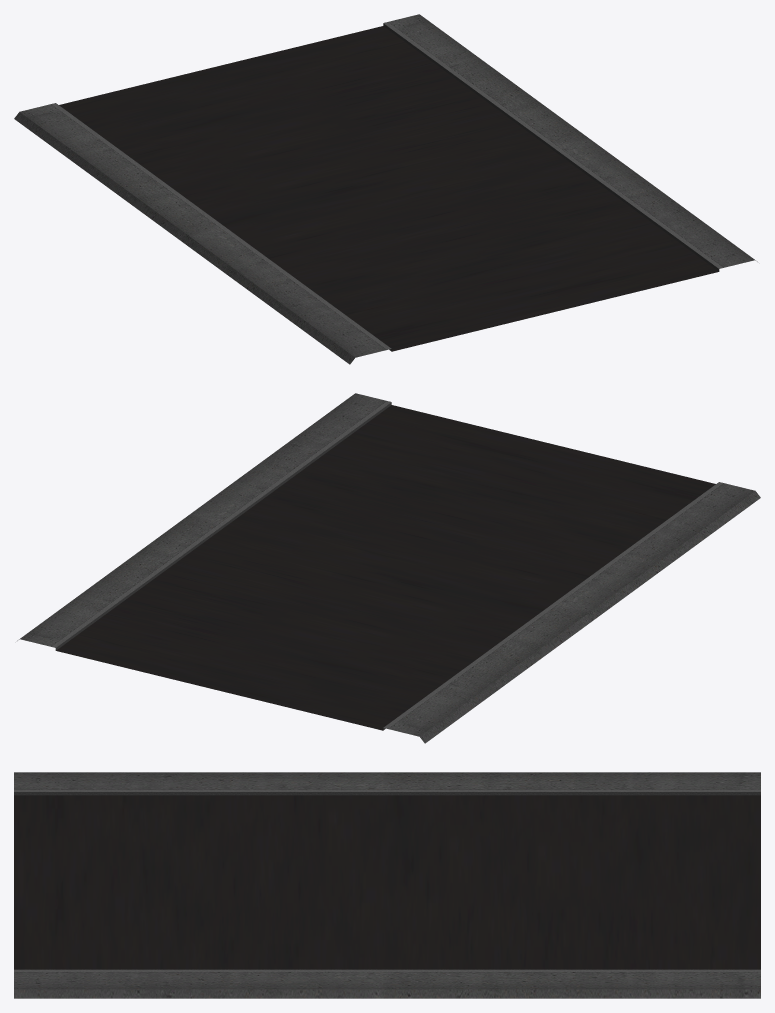
Rendered from RJs_Road Pass 2+4+2 Basic Node.fbx.
3 renders of one model, top to bottom at view 1: azimuth 30°, elevation 25°; view 2: azimuth 150°, elevation 25°; view 3: azimuth 270°, elevation 25°, orthographic. The views are drawn at different scales.
Visible parts, largest first — view 1: plane; view 2: plane; view 3: plane.
Boxes of the visible parts, bbox=[...] form: plane: bbox=[14, 14, 757, 364]; plane: bbox=[17, 393, 760, 743]; plane: bbox=[14, 772, 760, 998].
Size of the model in its own units: 4520 by 60.1 by 6400.
